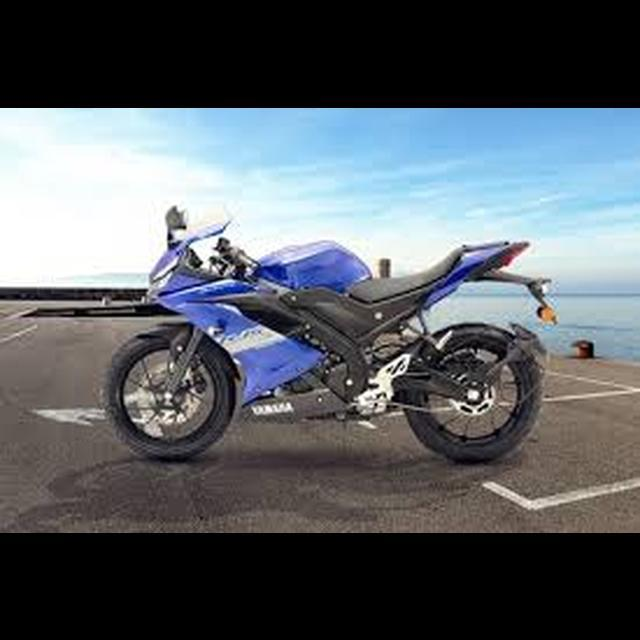motorcycle: (105, 197, 564, 469)
